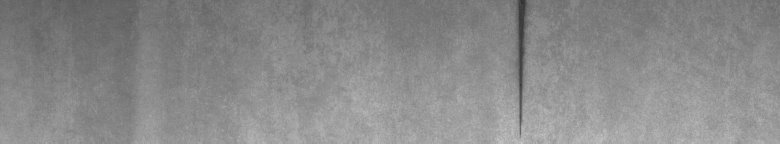hd: (508, 4, 535, 136)
